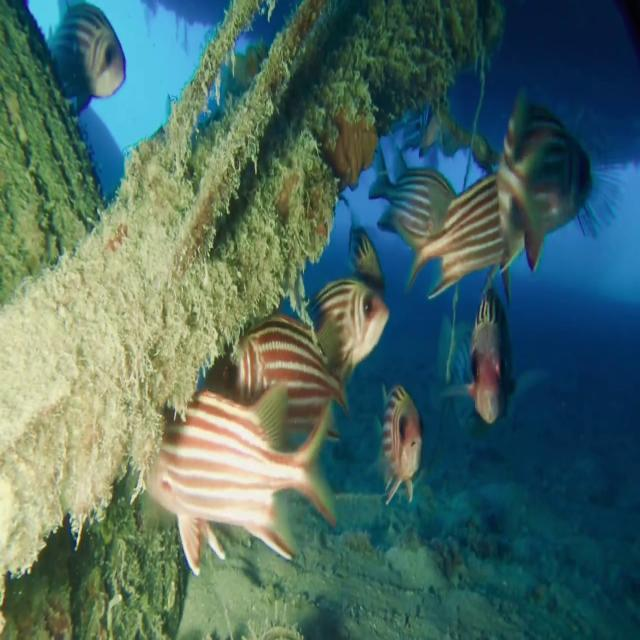Asker Baligi: (123, 382, 322, 541), (481, 101, 607, 246), (293, 270, 395, 386), (365, 364, 439, 519), (379, 134, 455, 259), (51, 1, 127, 118)
